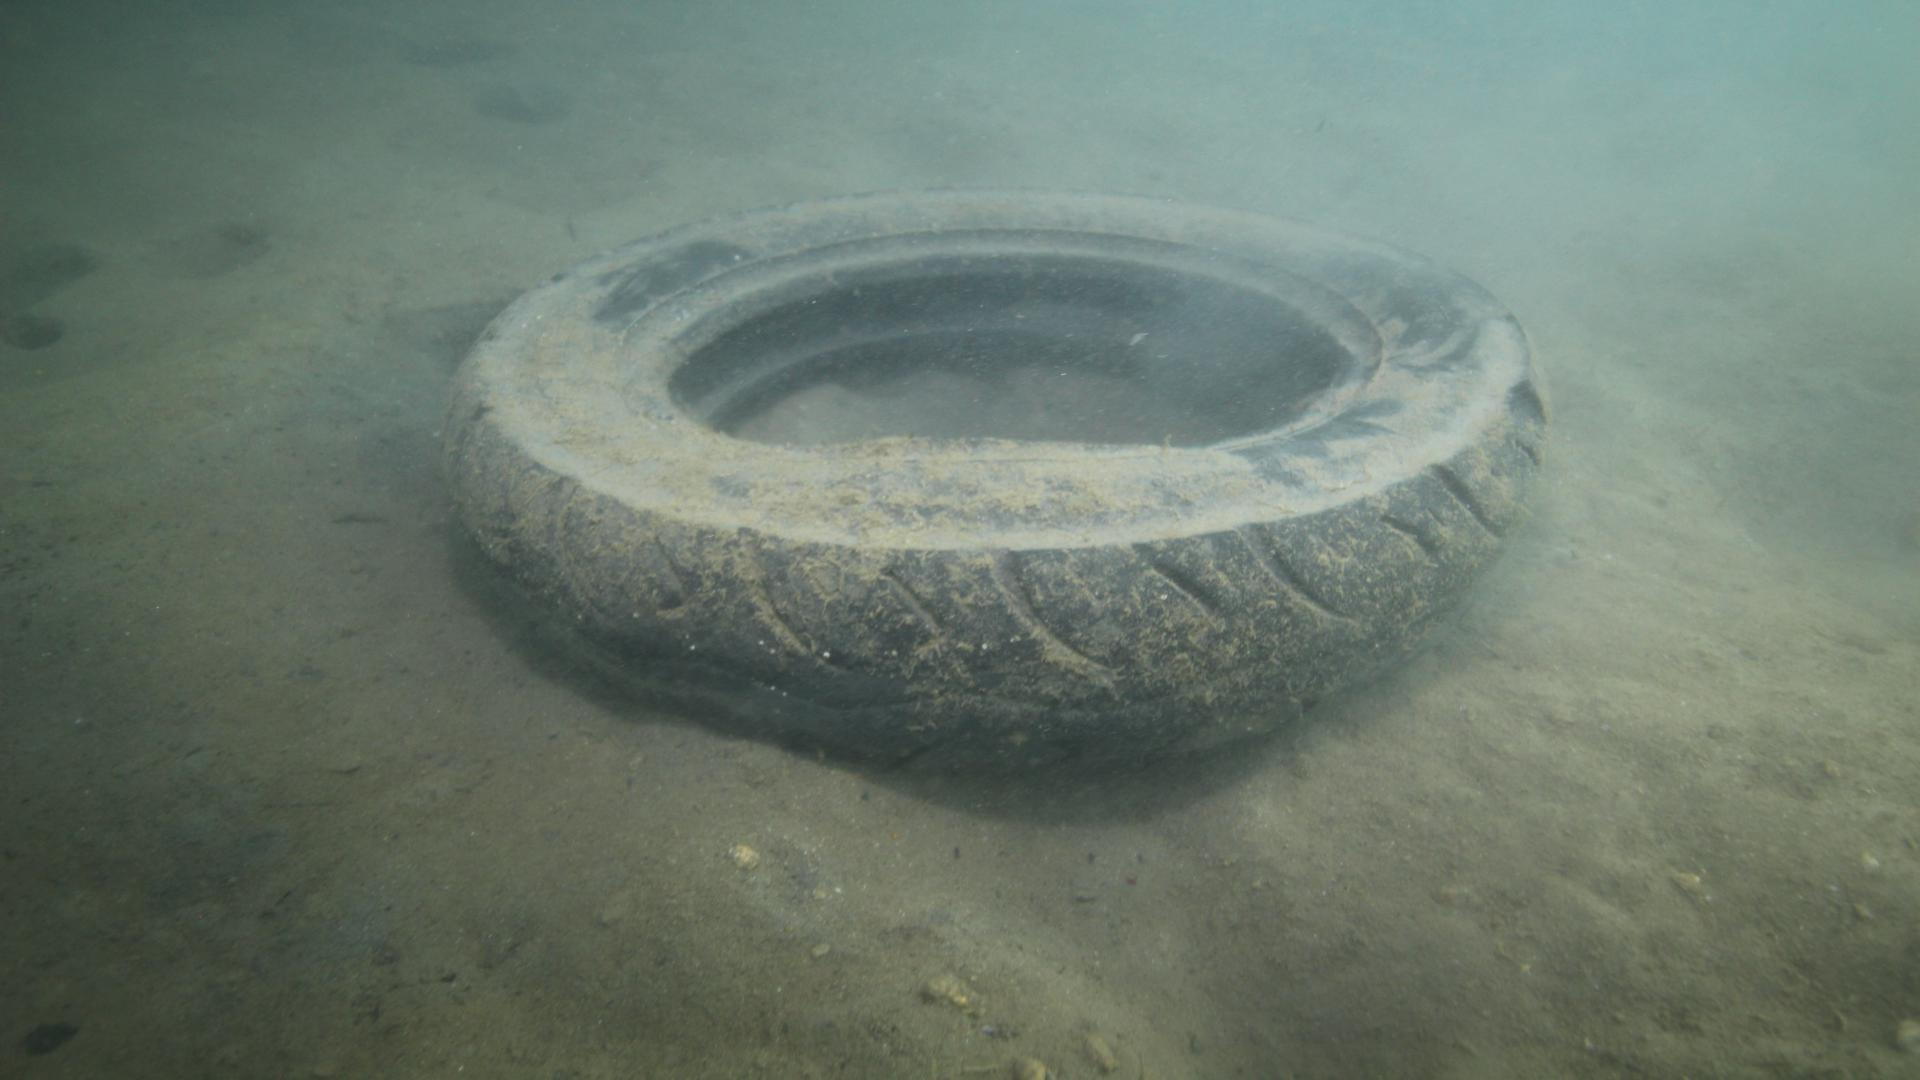tire: (436, 182, 1549, 781)
